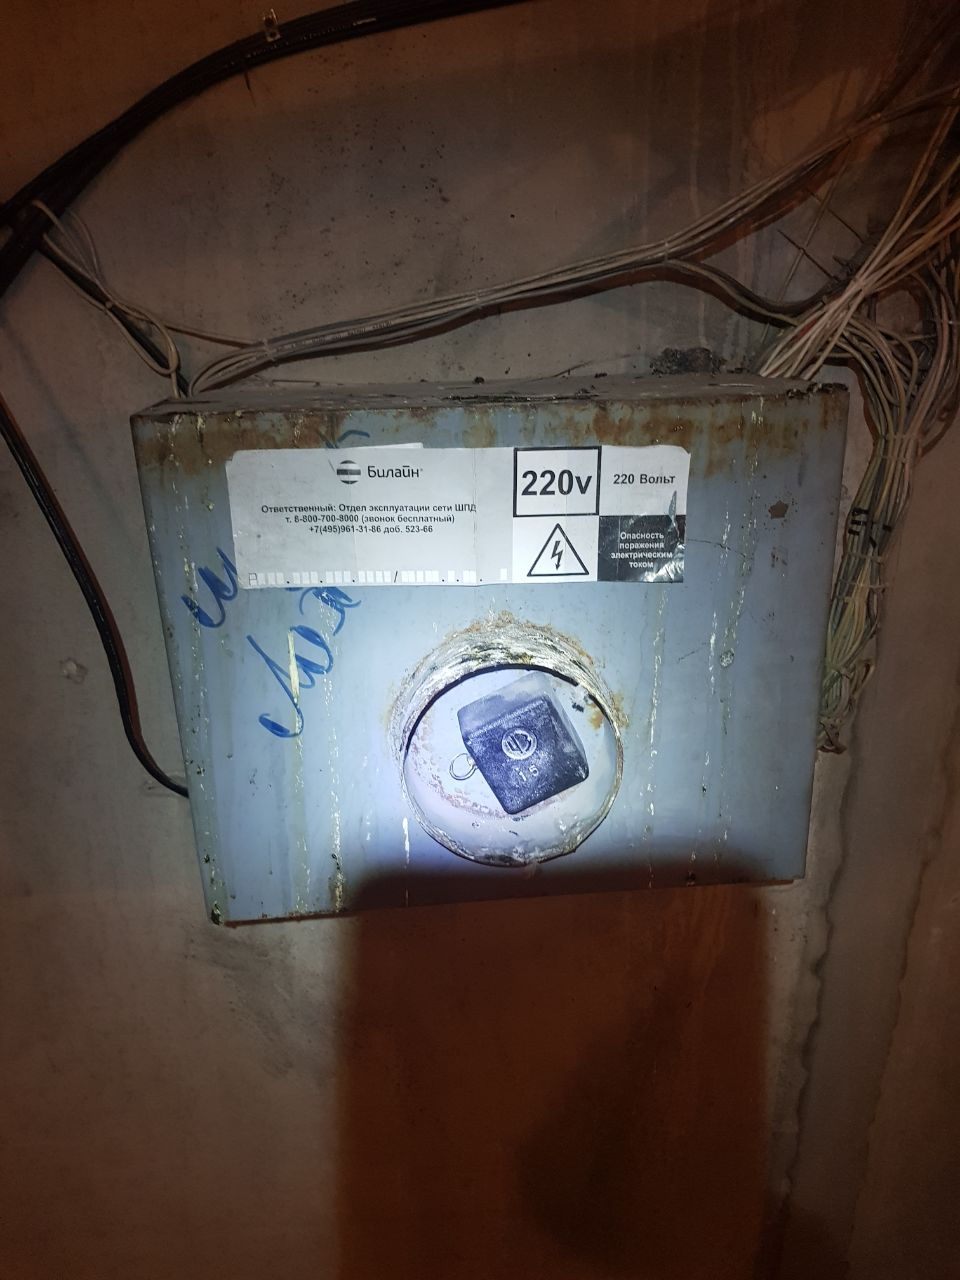shta-3: (126, 362, 854, 930)
